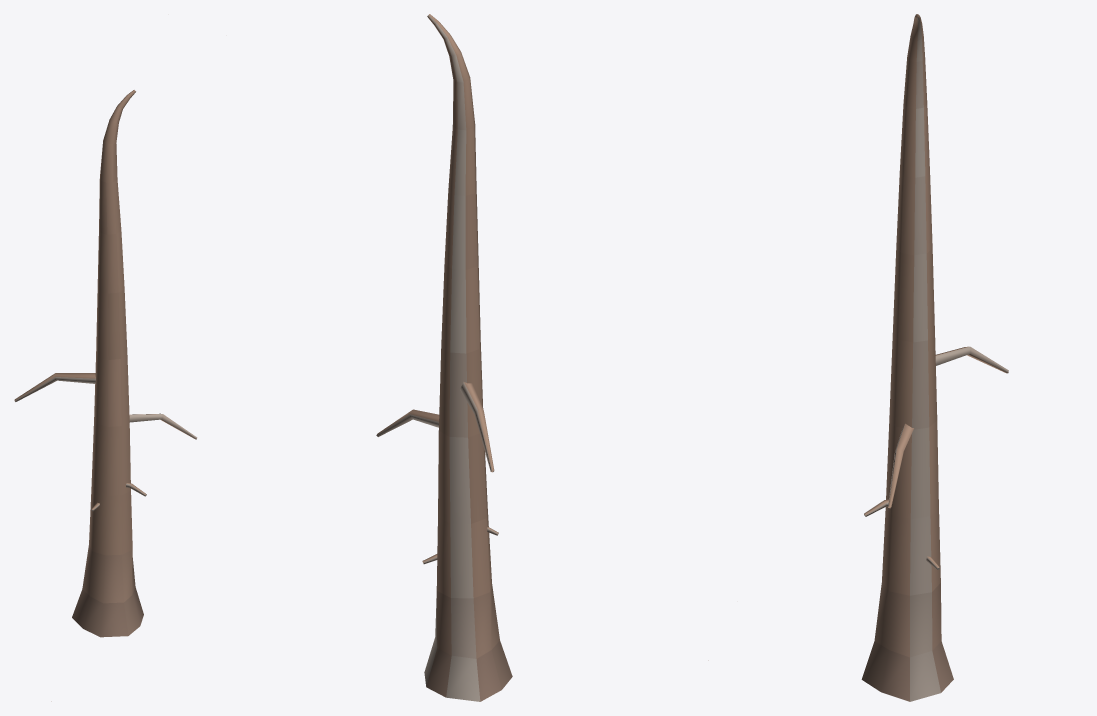
The model's file is Cedar_bark.glb.
3 views of the same model, side by side, from view 1: azimuth 30°, elevation 25°; view 2: azimuth 150°, elevation 25°; view 3: azimuth 270°, elevation 25° (orthographic). The views are drawn at different scales.
Visible parts, largest first — view 1: Cedar_bark; view 2: Cedar_bark; view 3: Cedar_bark.
Part boxes in pixels (bbox=[...]): Cedar_bark: bbox=[14, 90, 197, 701]; Cedar_bark: bbox=[376, 14, 708, 701]; Cedar_bark: bbox=[861, 14, 1008, 701].
Size of the model in its own units: 9.37 by 19.01 by 8.61.
